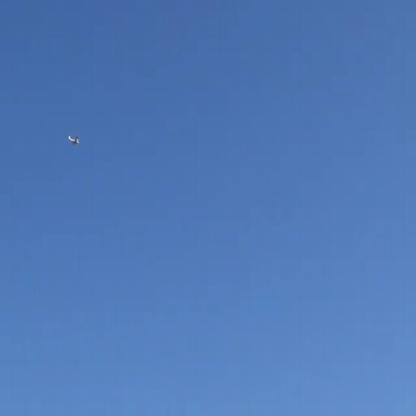CIV_Plane: (68, 136, 81, 148)
